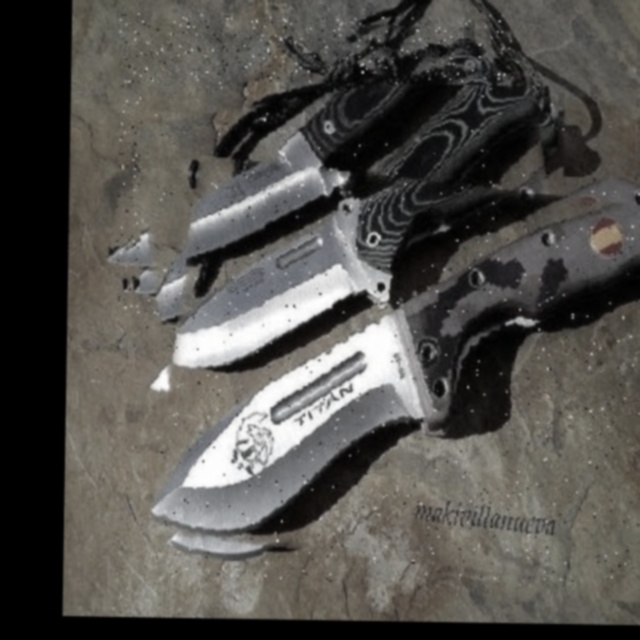Sharp-Object: (157, 171, 640, 589), (136, 80, 565, 421), (116, 13, 513, 315)
